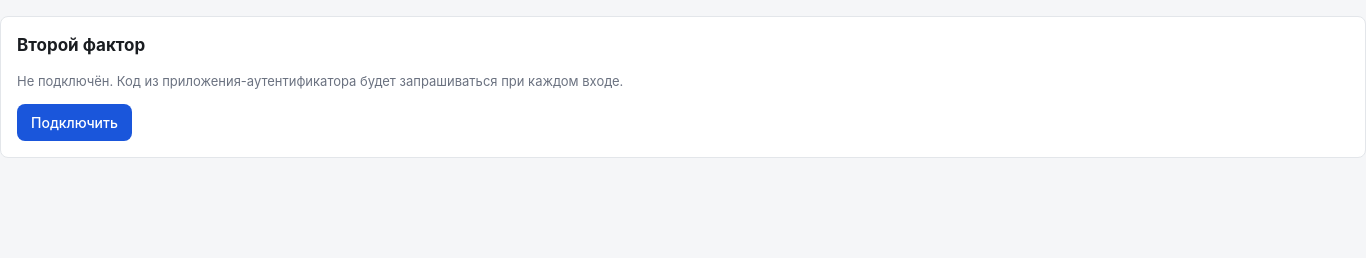
Test: MfaSettings › показывает ошибку сервера, а не глотает её
Click the button "Подключить": click(74, 122) [17,104,132,141]
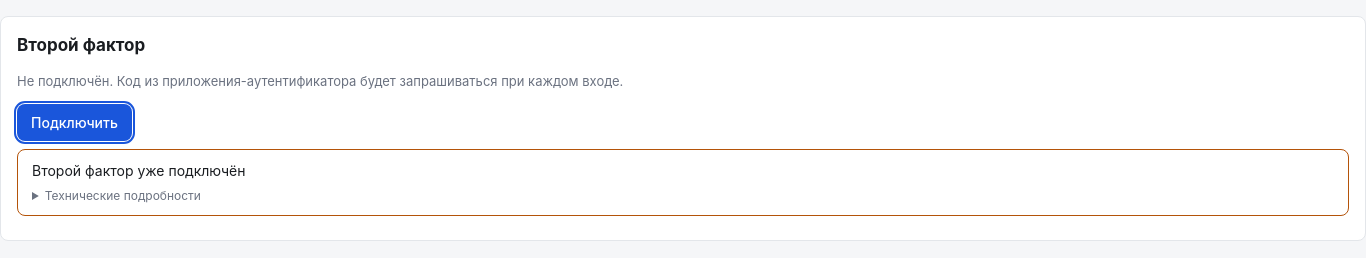
Now the message shows "Второй фактор уже подключён", box [32,162,245,179]
